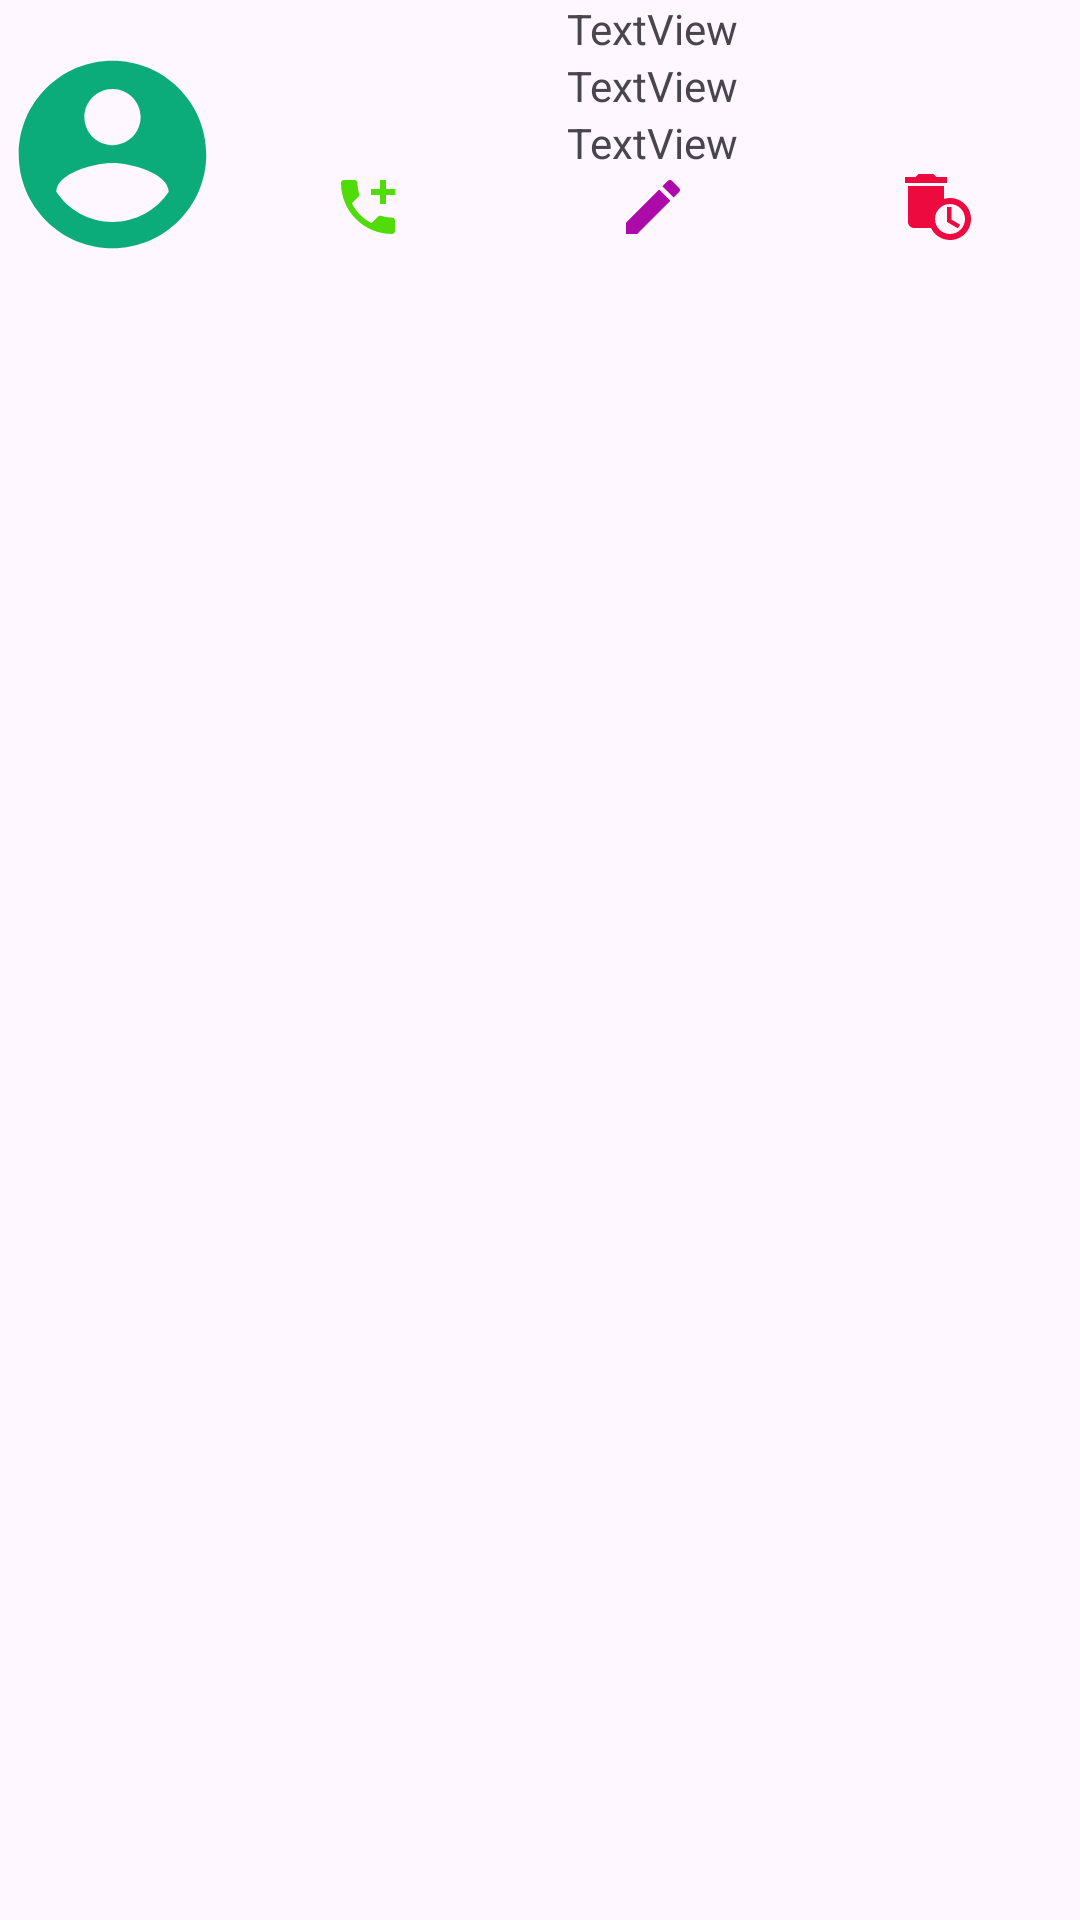

Screen size 1080px x 1920px. Icon name, then its center in pixels as point (x, y):
account: point (112, 154)
call: point (368, 207)
del: point (938, 207)
edit: point (653, 207)
